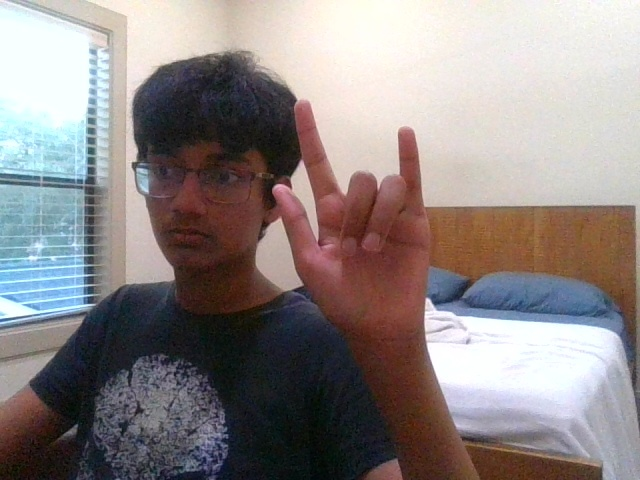ly: (271, 100, 432, 334)
